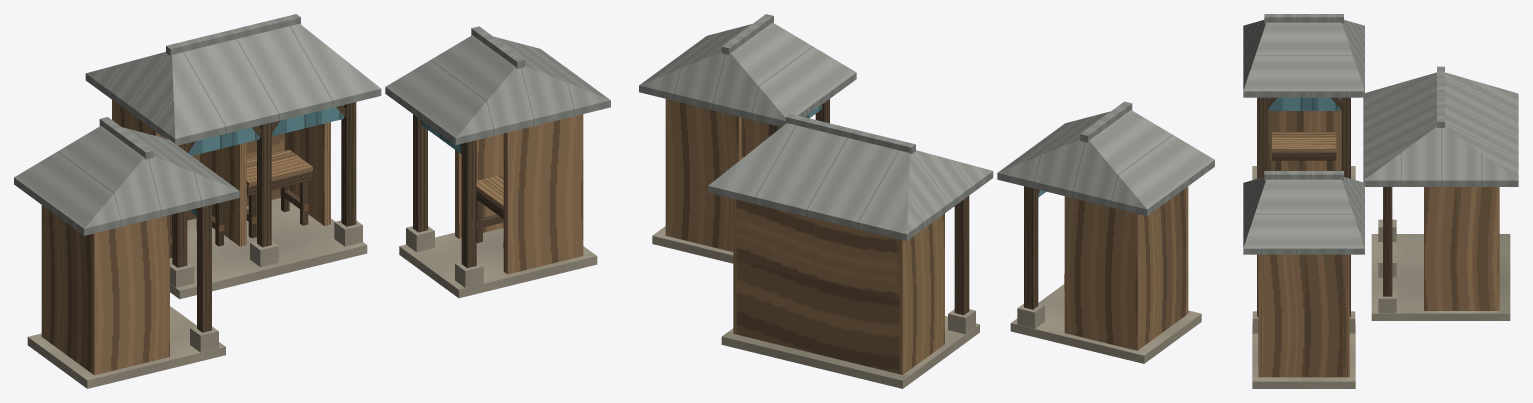
The model's file is avarua.glb.
3 views of the same model, side by side, from view 1: azimuth 30°, elevation 25°; view 2: azimuth 150°, elevation 25°; view 3: azimuth 270°, elevation 25° (orthographic). The views are drawn at different scales.
Visible parts, largest first — view 1: avarua; view 2: avarua; view 3: avarua.
Boxes of the visible parts, x1=… form: avarua: x1=14, y1=14, x2=610, y2=388; avarua: x1=639, y1=14, x2=1214, y2=388; avarua: x1=1243, y1=14, x2=1518, y2=388.
Size of the model in its own units: 6.39 by 2.5 by 3.34.
1 material, 1 textured.
